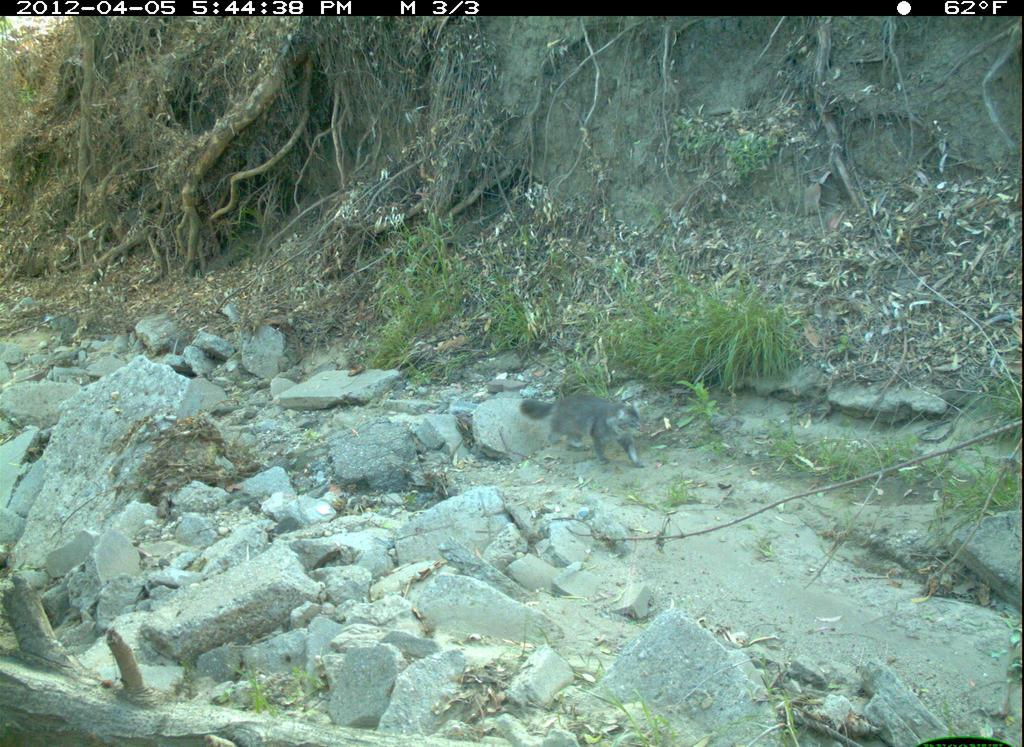cat: (518, 388, 649, 473)
